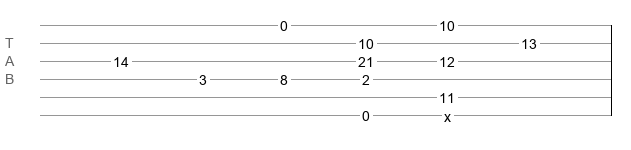0: (280, 18, 288, 28), (362, 108, 370, 118)
10: (358, 36, 374, 46), (439, 18, 455, 28)
11: (439, 90, 455, 100)
12: (439, 54, 455, 64)
13: (521, 36, 537, 46)
14: (113, 54, 129, 64)
2: (362, 72, 370, 82)
21: (358, 54, 374, 64)
3: (199, 72, 207, 82)
8: (280, 72, 288, 82)
x: (444, 109, 451, 117)
